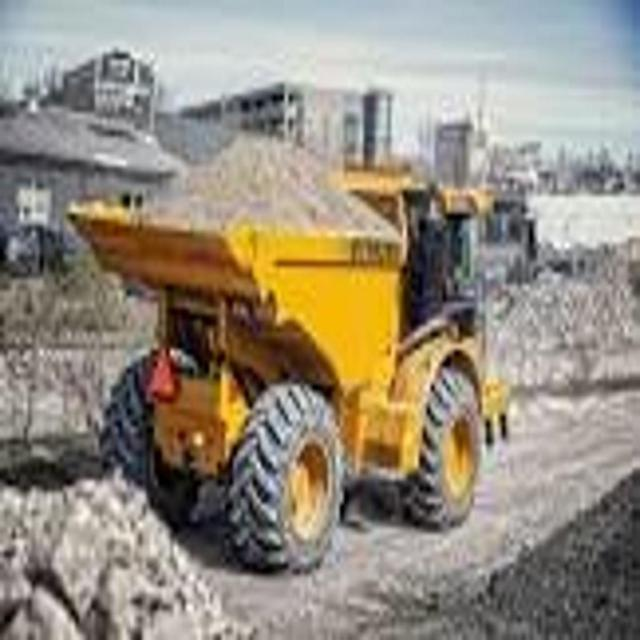dump_truck: (69, 117, 505, 576)
